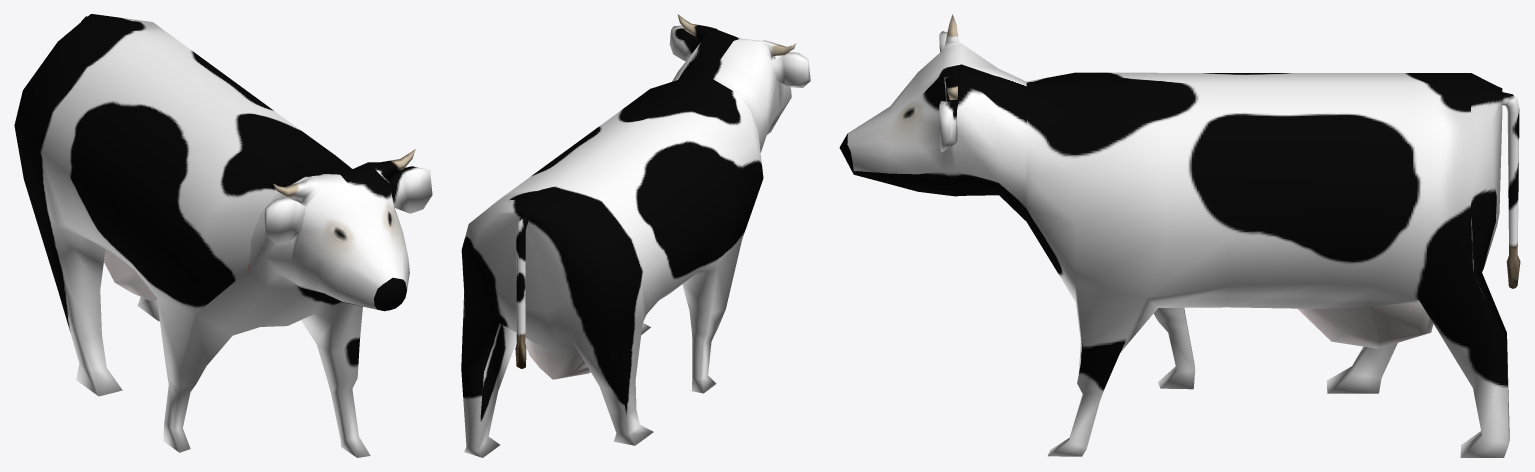
File: cow.fbx
The picture shows the model from 3 angles, left to right: view 1: azimuth 30°, elevation 25°; view 2: azimuth 150°, elevation 25°; view 3: azimuth 270°, elevation 25°; orthographic projection. The views are drawn at different scales.
Parts seen in each view (by area): view 1: cow; view 2: cow; view 3: cow.
Boxes of the visible parts, x1,y1,x2,y2 form: cow: (14,14,432,457); cow: (461,14,810,457); cow: (839,14,1520,457).
Size of the model in its own units: 114 by 194 by 326.
Materials: 1 (1 with a texture image).
